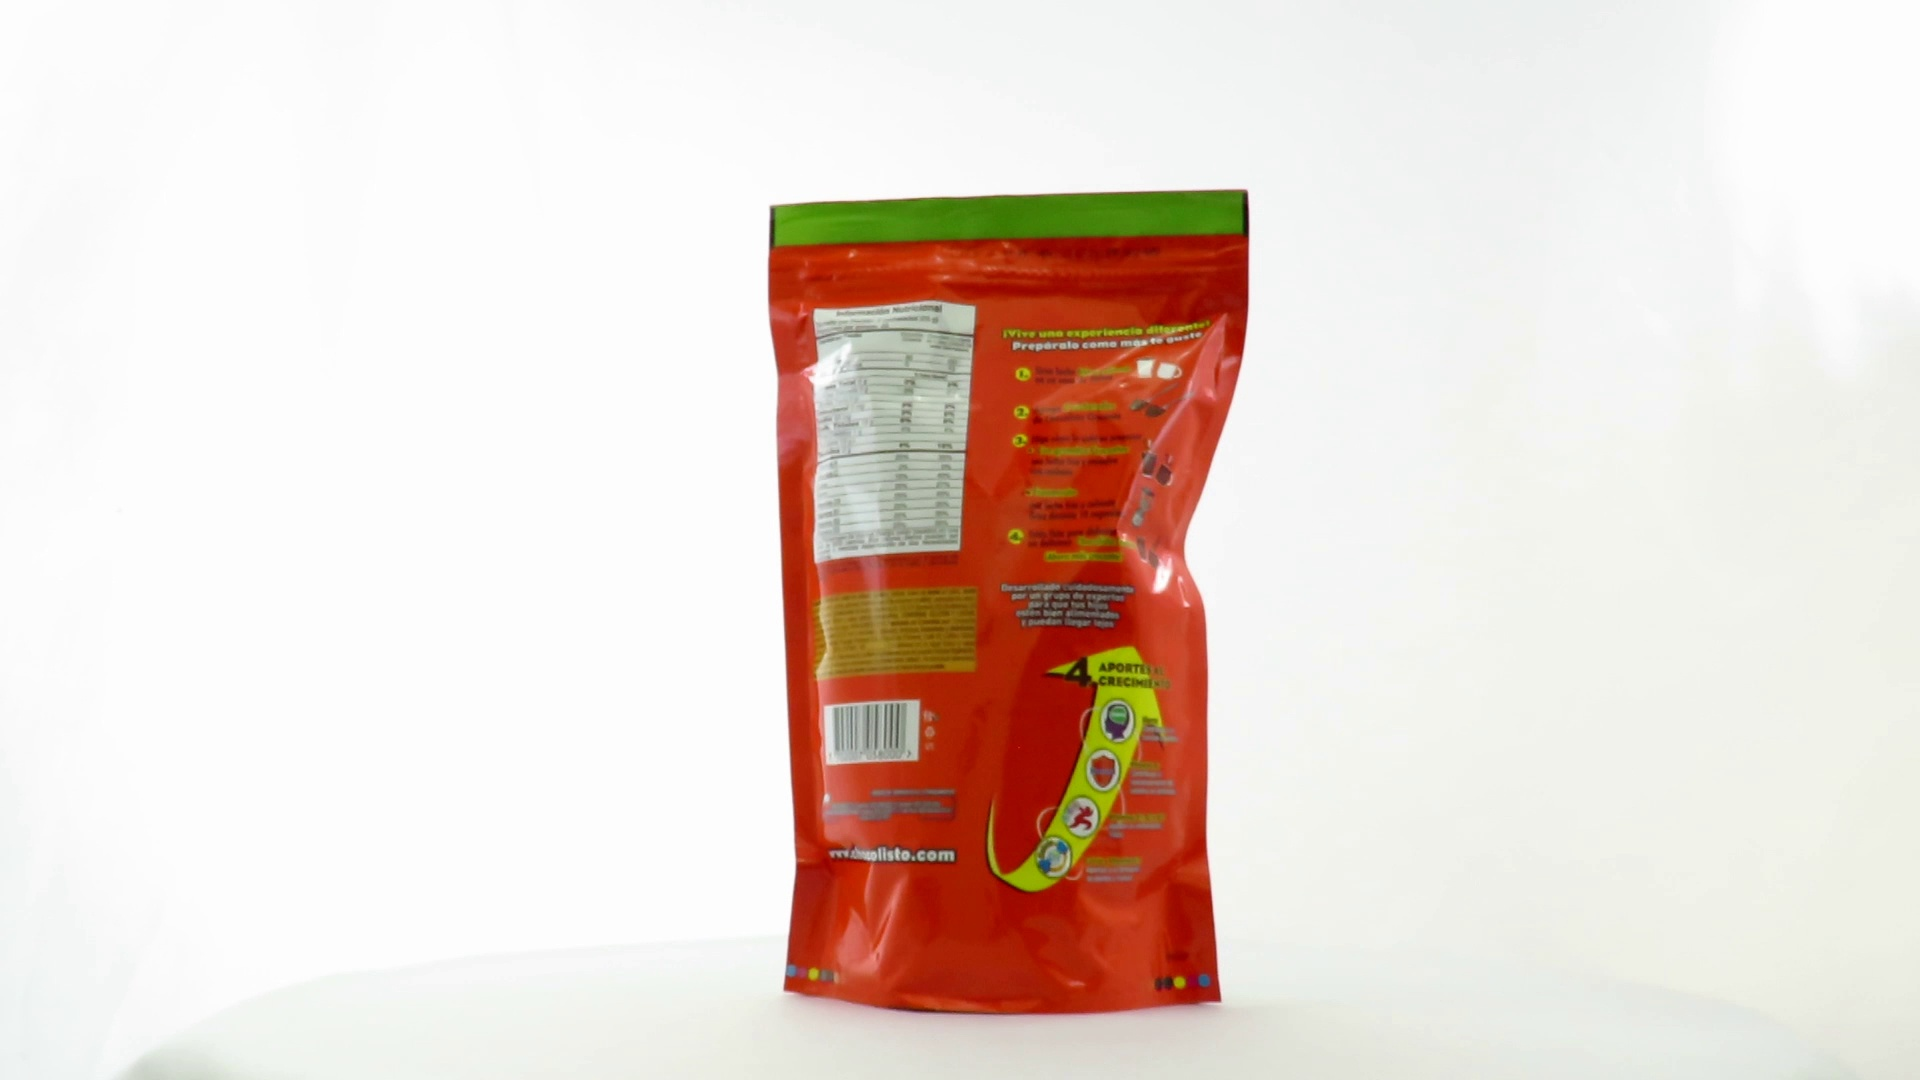COL0170102DYP50000: (764, 185, 1255, 1022)
